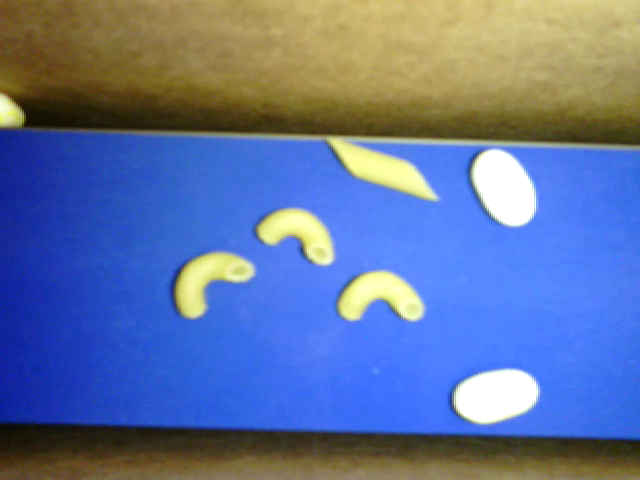elbow: (171, 250, 256, 317), (255, 208, 336, 265), (335, 270, 425, 320)
penne: (325, 136, 437, 200)
